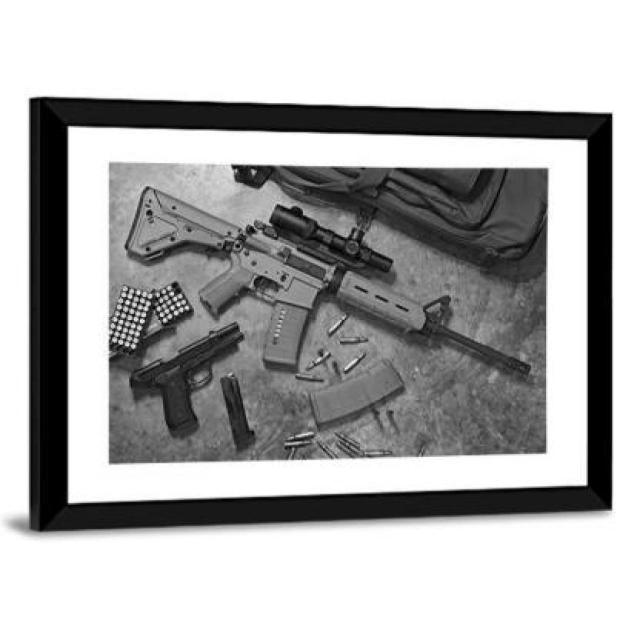weapon: (125, 186, 532, 380), (129, 320, 245, 440)
